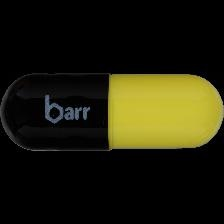63629-1502: (0, 0, 224, 224)
